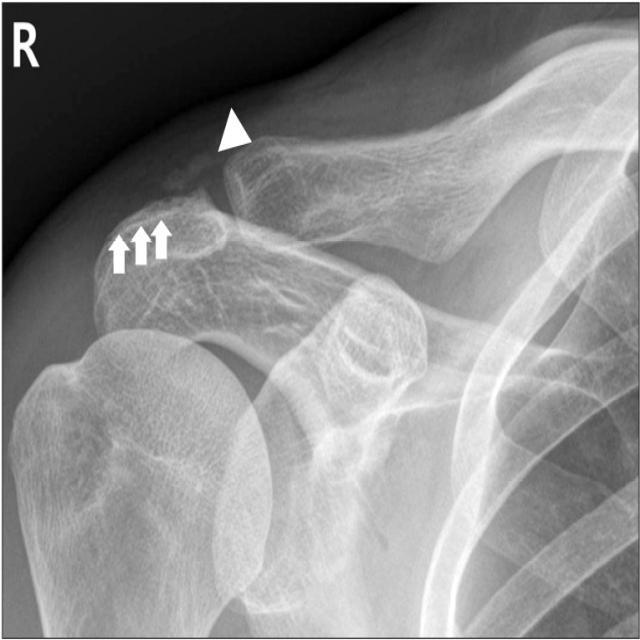Avulsion-fracture-: (86, 175, 226, 293)
